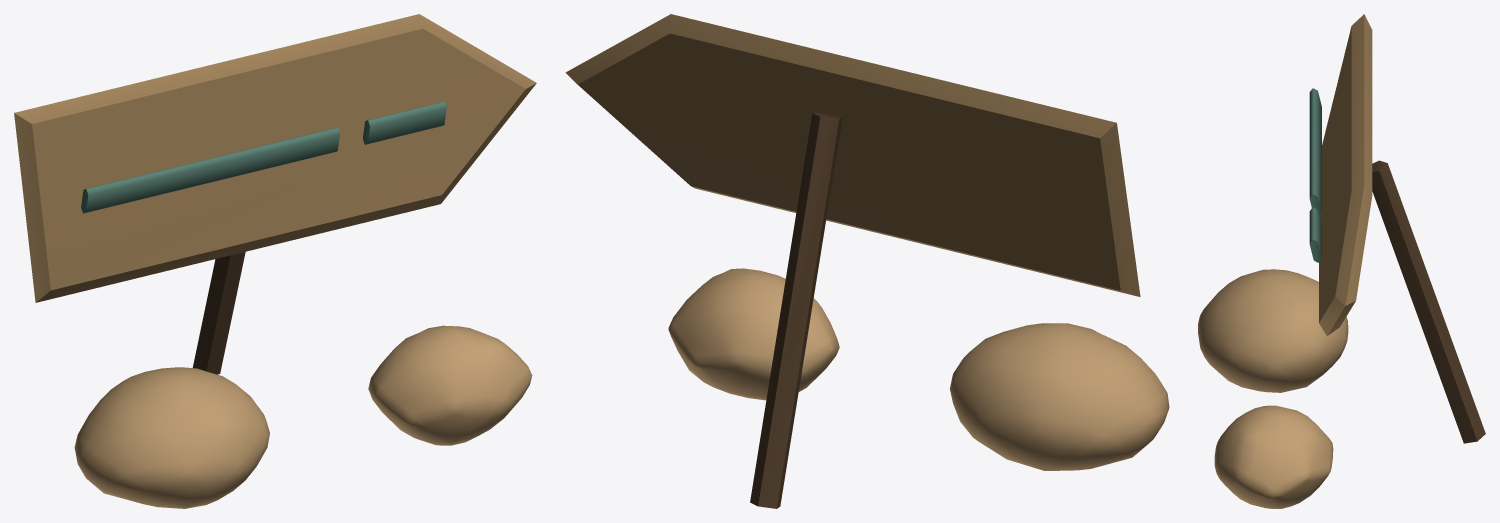
File: crew_sign_a.glb
The picture shows the model from 3 angles, left to right: view 1: azimuth 30°, elevation 25°; view 2: azimuth 150°, elevation 25°; view 3: azimuth 270°, elevation 25°; orthographic projection. The views are drawn at different scales.
Parts seen in each view (by area): view 1: Surface; view 2: Surface; view 3: Surface.
Boxes of the visible parts, <box> form: Surface: <box>14,14,536,508</box>; Surface: <box>565,14,1169,508</box>; Surface: <box>1198,14,1485,508</box>.
Bounding box in the file's own units: 1.2 × 0.8444 × 0.6743.
